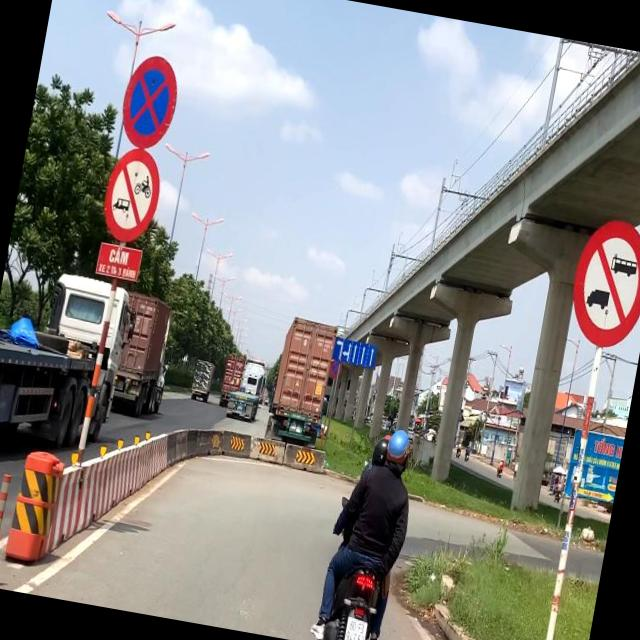P-104: (96, 142, 167, 246)
P-130: (116, 51, 182, 150)
